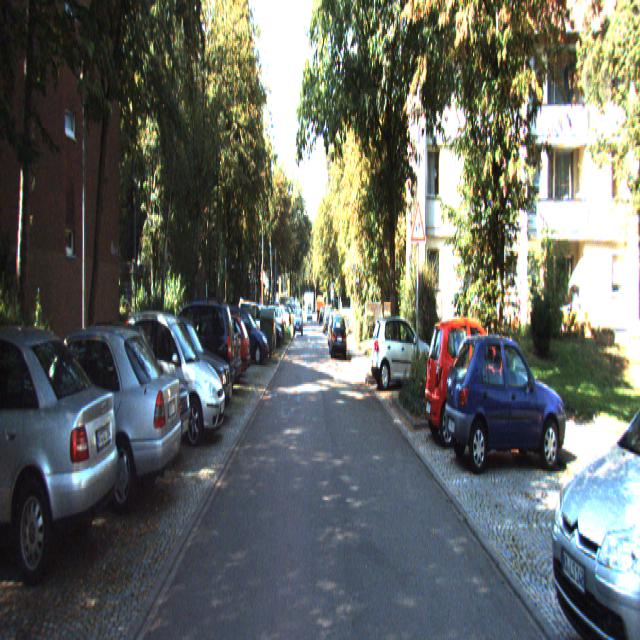Car: (0, 316, 186, 526), (0, 308, 127, 585), (546, 338, 640, 638), (444, 325, 566, 474), (116, 314, 227, 447), (423, 314, 525, 451), (150, 292, 237, 410), (370, 313, 434, 392), (220, 305, 270, 366), (329, 315, 348, 359)
